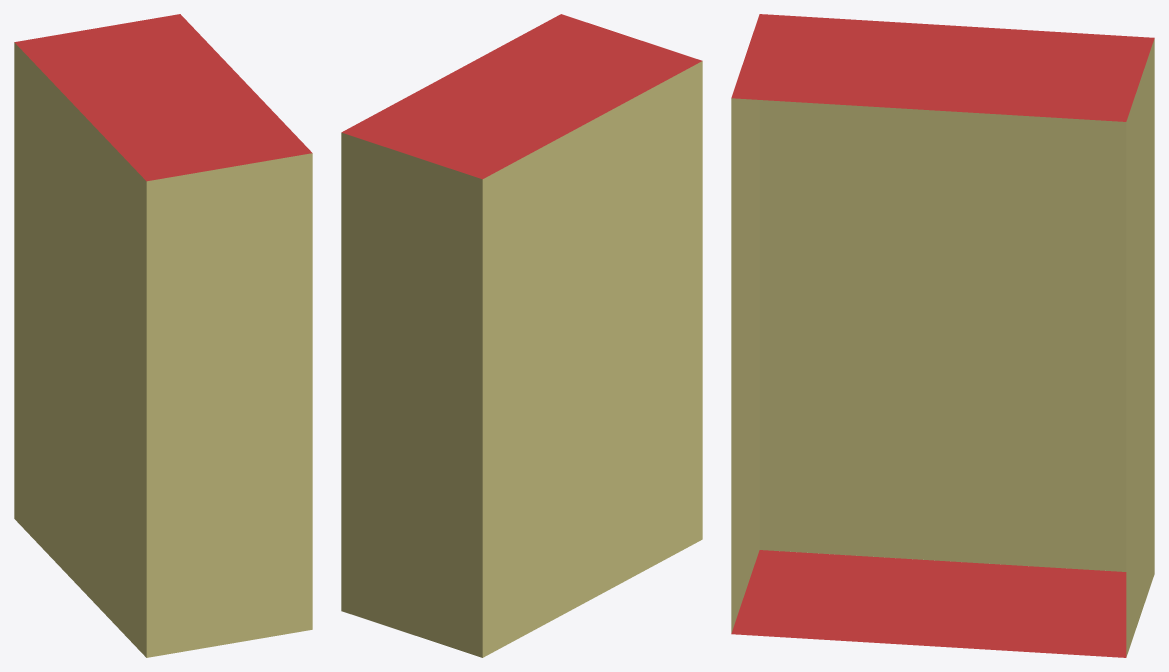
3 views of the same model, side by side, from view 1: azimuth 30°, elevation 25°; view 2: azimuth 150°, elevation 25°; view 3: azimuth 270°, elevation 25° (orthographic). The views are drawn at different scales.
Parts seen in each view (by area): view 1: group_4, group_3; view 2: group_4, group_3; view 3: group_4, group_3, group_5.
Boxes of the visible parts, x1,y1,x2,y2 form: group_4: (14, 42, 312, 657); group_3: (14, 14, 312, 181); group_4: (341, 61, 702, 657); group_3: (341, 14, 702, 179); group_4: (731, 39, 1154, 656); group_3: (731, 14, 1154, 121); group_5: (731, 550, 1126, 657).
Bounding box in the file's own units: 3.25 × 5.38 × 7.51.
